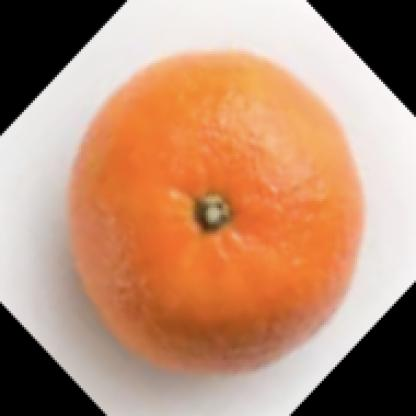fresh: (69, 49, 364, 377)
